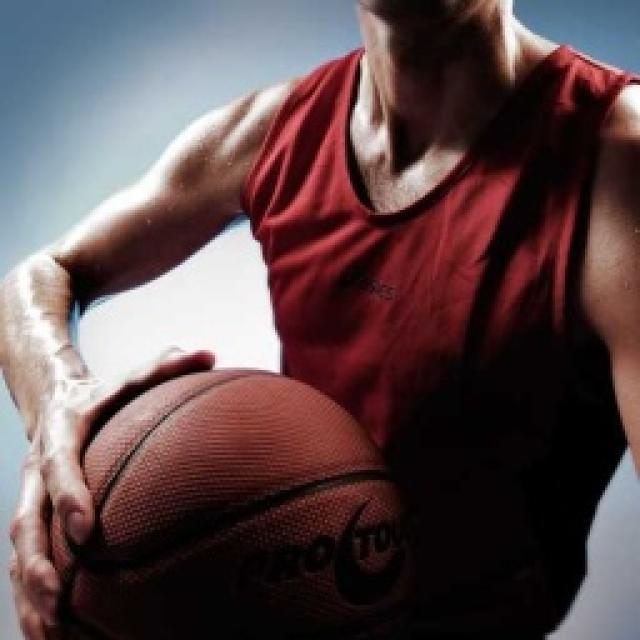rim: (9, 359, 405, 640)
